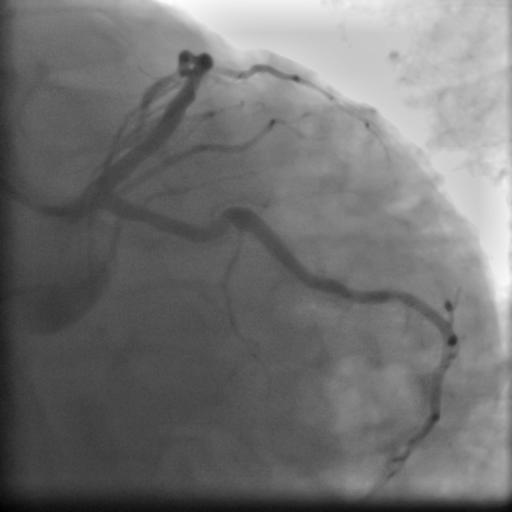Stenosis: (201, 213, 231, 240)
